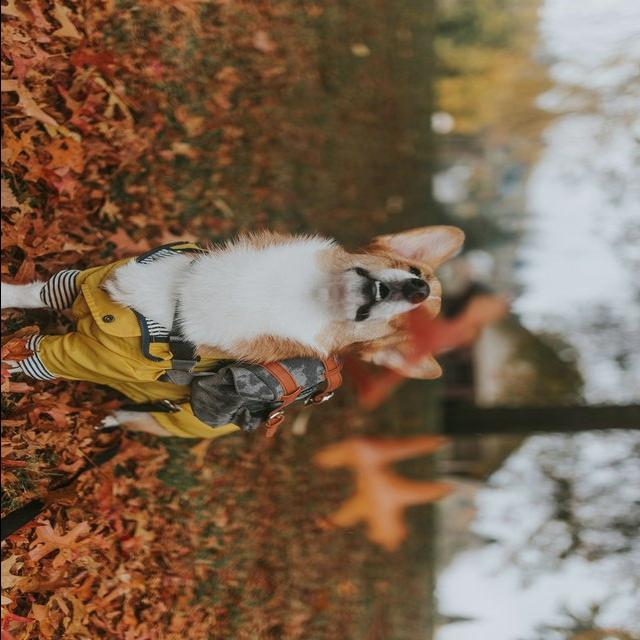corgi: (2, 224, 474, 441)
